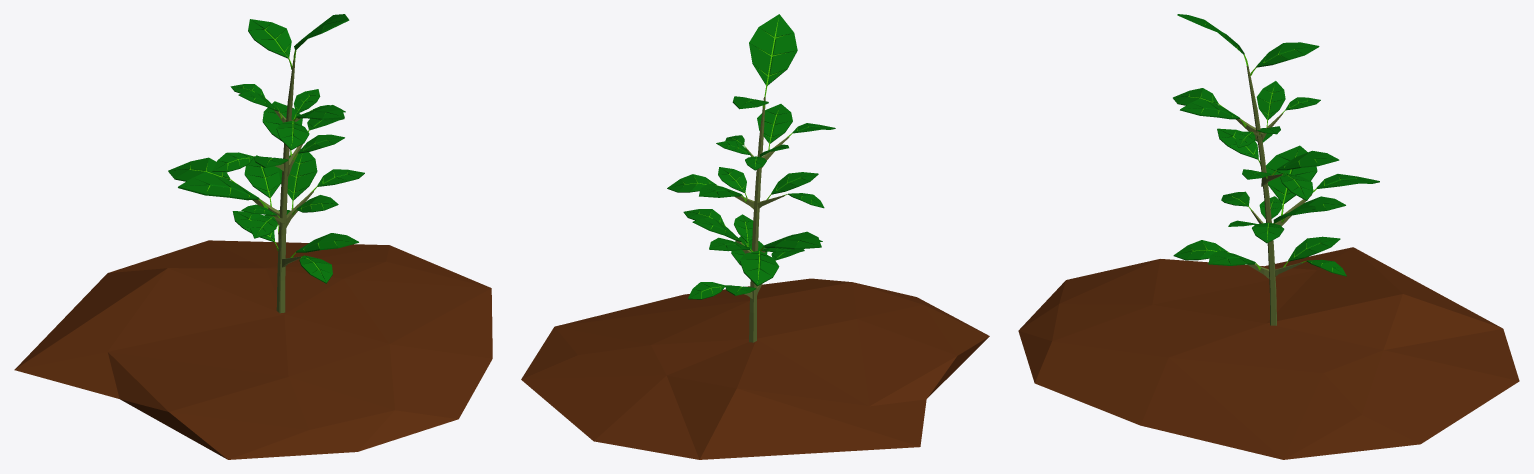
The model's file is pohon_pruning.glb.
3 renders of one model, left to right at view 1: azimuth 30°, elevation 25°; view 2: azimuth 150°, elevation 25°; view 3: azimuth 270°, elevation 25°, orthographic. The views are drawn at different scales.
Visible parts, largest first — view 1: Pruning; view 2: Pruning; view 3: Pruning.
Part boxes in pixels (x1,y1,x2,y2): Pruning: (14,14,492,459); Pruning: (521,14,989,459); Pruning: (1018,14,1519,459).
Bounding box in the file's own units: 9.86 × 7.64 × 9.81.
